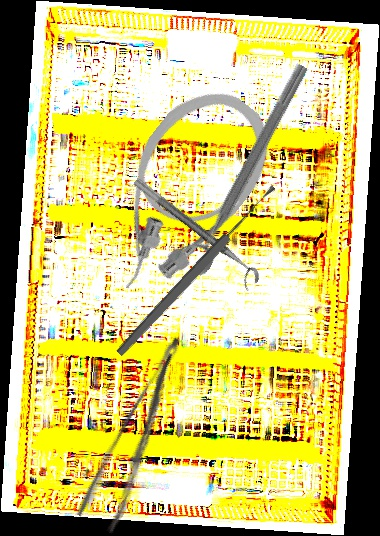Cannula: (67, 70, 293, 312)
Dressing Forceps: (72, 333, 212, 535)
Fixation Ring: (171, 54, 314, 278), (124, 176, 264, 293)
Surgical Spoon: (114, 183, 279, 358)
